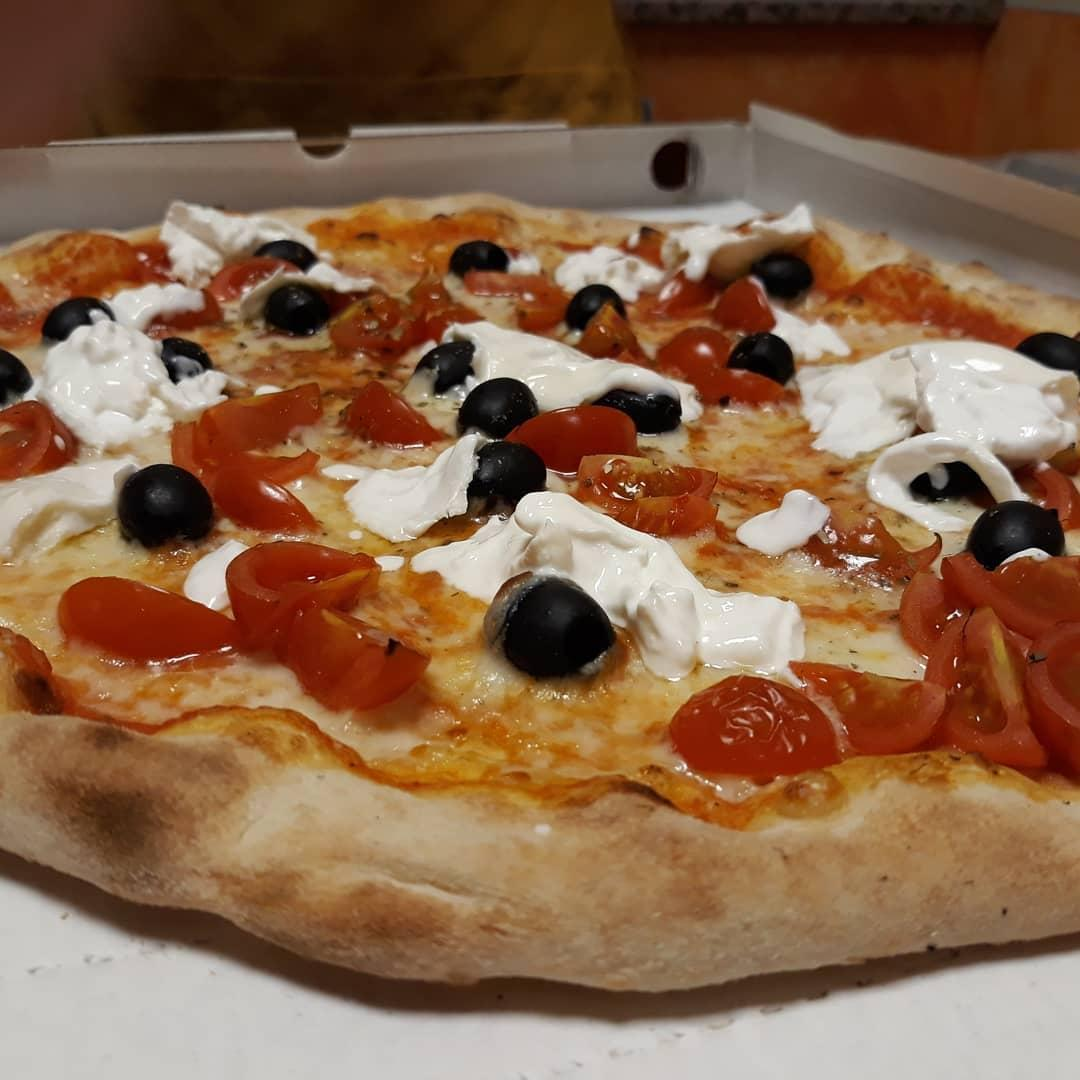Cheese: (464, 501, 665, 607), (848, 348, 1042, 441), (491, 314, 625, 421), (654, 571, 772, 680), (68, 354, 190, 425), (8, 478, 114, 543), (164, 211, 245, 276), (361, 458, 463, 509)
Olives: (108, 461, 221, 547), (508, 594, 614, 665), (741, 241, 827, 301), (258, 281, 343, 334), (438, 228, 518, 283), (41, 284, 114, 343), (724, 324, 796, 381), (974, 501, 1054, 552), (471, 444, 545, 494), (414, 328, 469, 394), (461, 381, 532, 425), (554, 281, 625, 323), (1018, 328, 1080, 372), (914, 468, 987, 505), (158, 328, 205, 383), (261, 234, 314, 272), (0, 348, 35, 397)
Pizza: (0, 204, 1080, 1003)
Tomatoes: (908, 558, 1076, 774), (61, 571, 254, 676), (171, 381, 334, 474), (231, 534, 374, 632), (681, 681, 829, 769), (794, 654, 927, 749), (198, 448, 310, 554), (298, 611, 418, 707), (584, 455, 719, 533), (323, 365, 434, 451), (334, 294, 461, 358), (658, 321, 734, 401), (528, 401, 636, 456), (674, 274, 774, 332), (0, 401, 67, 476)
